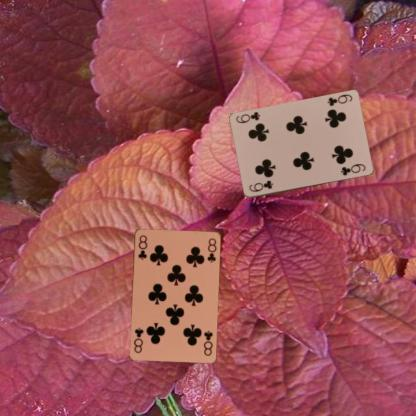6c: (246, 178, 275, 194), (325, 92, 353, 107)
8c: (135, 232, 149, 261), (200, 328, 214, 357)
